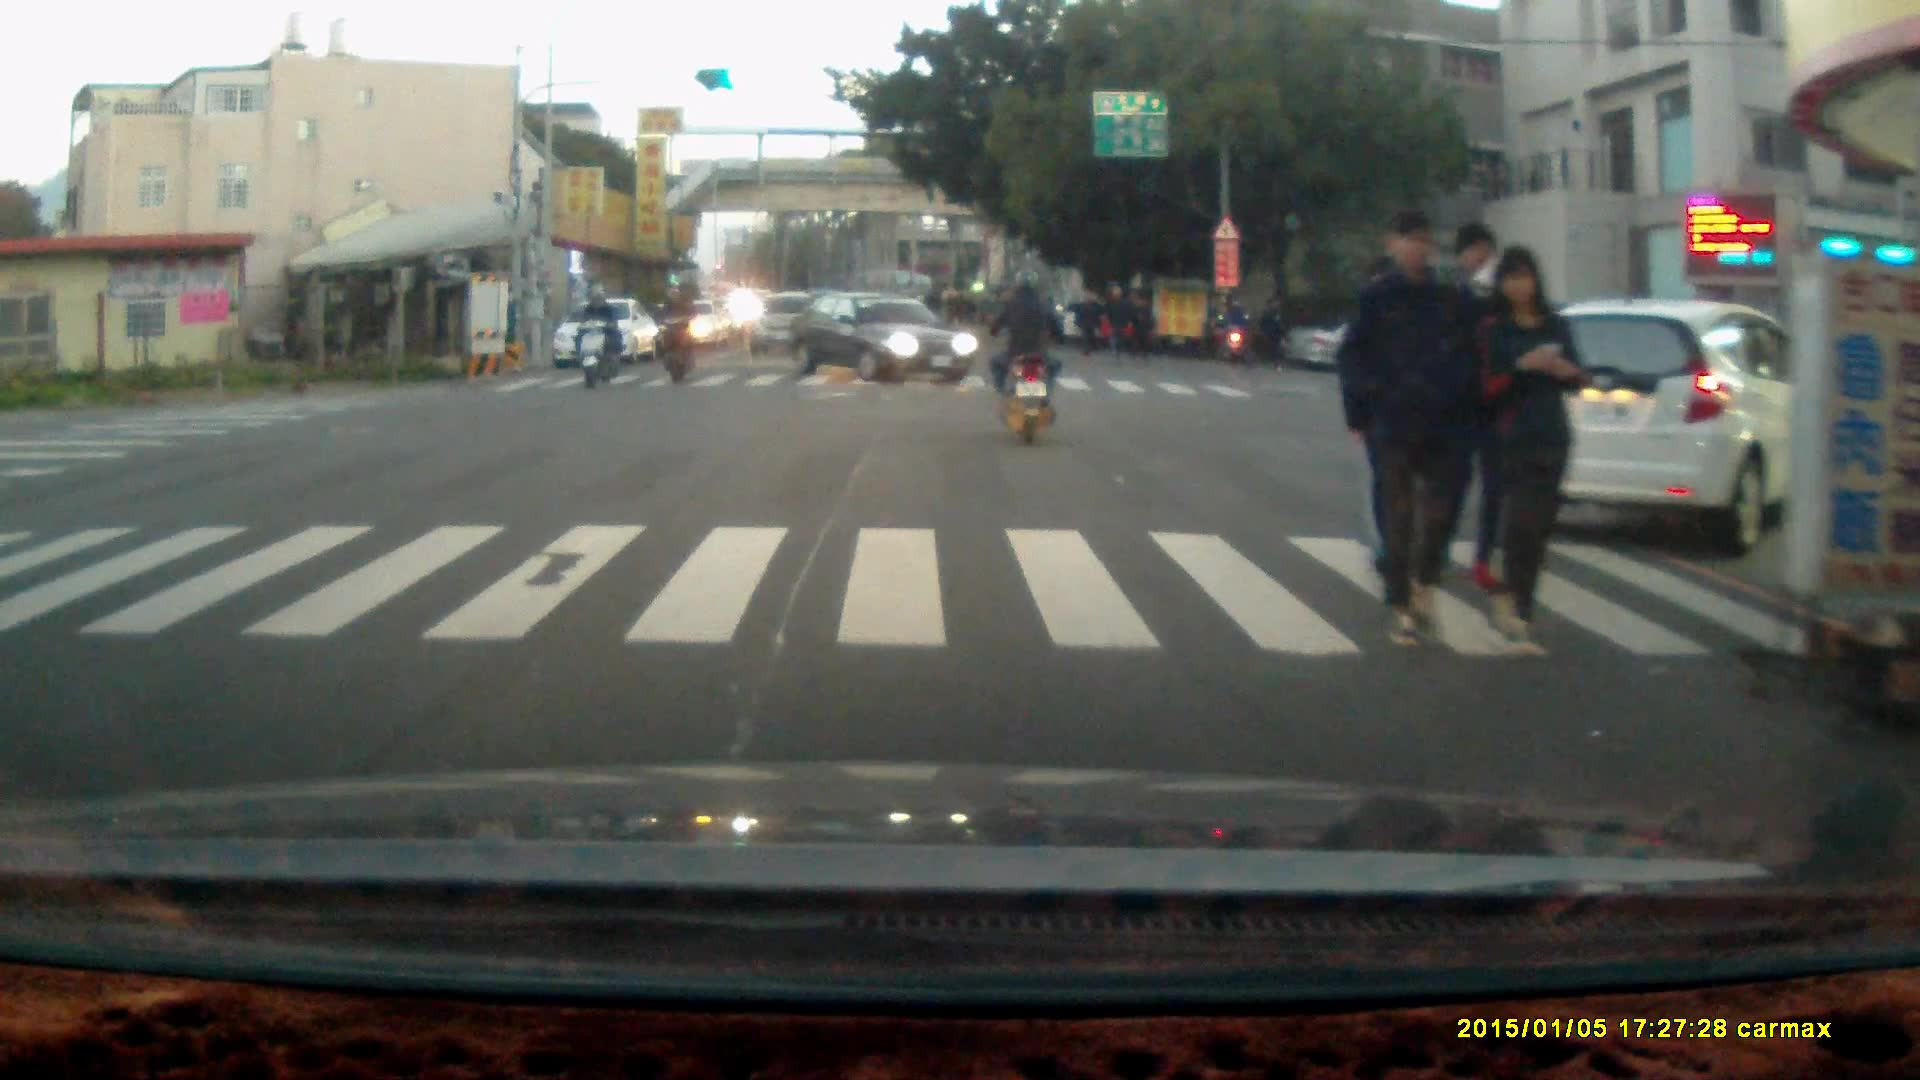pedestrian: (1334, 209, 1480, 664), (1470, 244, 1579, 661), (1099, 280, 1128, 365), (1123, 289, 1155, 365), (1252, 290, 1283, 367), (1068, 285, 1097, 363)
rider: (989, 264, 1061, 448), (574, 284, 621, 391), (649, 281, 697, 382), (1210, 296, 1249, 359)
vehicle: (1495, 293, 1886, 561), (782, 287, 981, 383), (553, 299, 656, 369)
